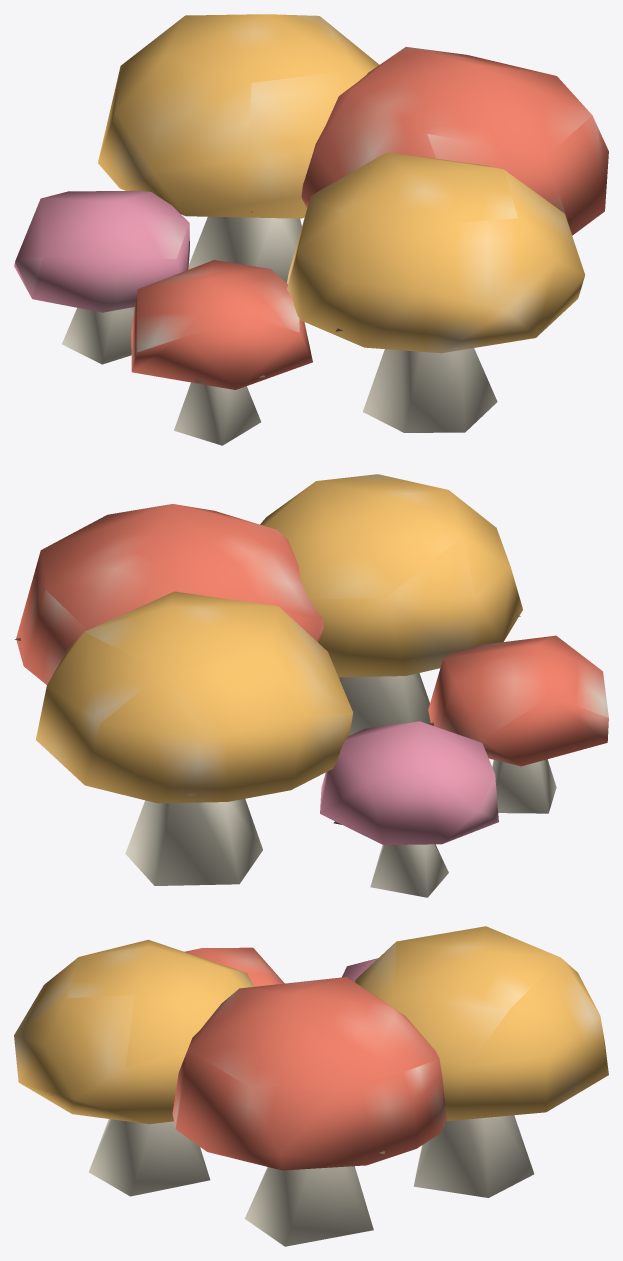
The model's file is mushroom_ring_lod1.gltf.
3 views of the same model, one above another, from view 1: azimuth 30°, elevation 25°; view 2: azimuth 150°, elevation 25°; view 3: azimuth 270°, elevation 25° (orthographic). The views are drawn at different scales.
Visible parts, largest first — view 1: mushroom_ring_LOD1; view 2: mushroom_ring_LOD1; view 3: mushroom_ring_LOD1.
Part boxes in pixels (box(x1,y1,x2,y2)): mushroom_ring_LOD1: box(14, 14, 608, 445); mushroom_ring_LOD1: box(14, 474, 608, 897); mushroom_ring_LOD1: box(14, 926, 608, 1246).
Size of the model in its own units: 0.8083 by 0.3822 by 0.8927.
Materials: 1 (1 with a texture image).
